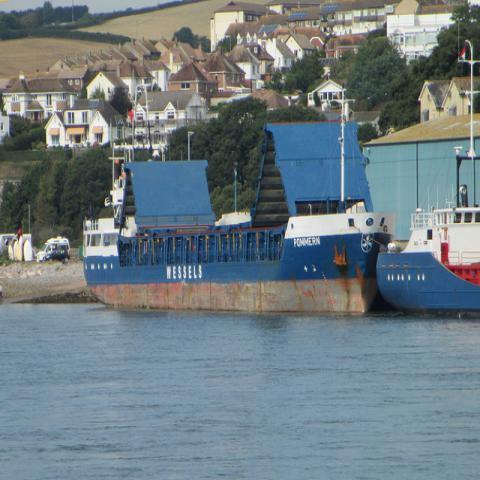car: (43, 248, 70, 264)
truck: (36, 236, 70, 264)
